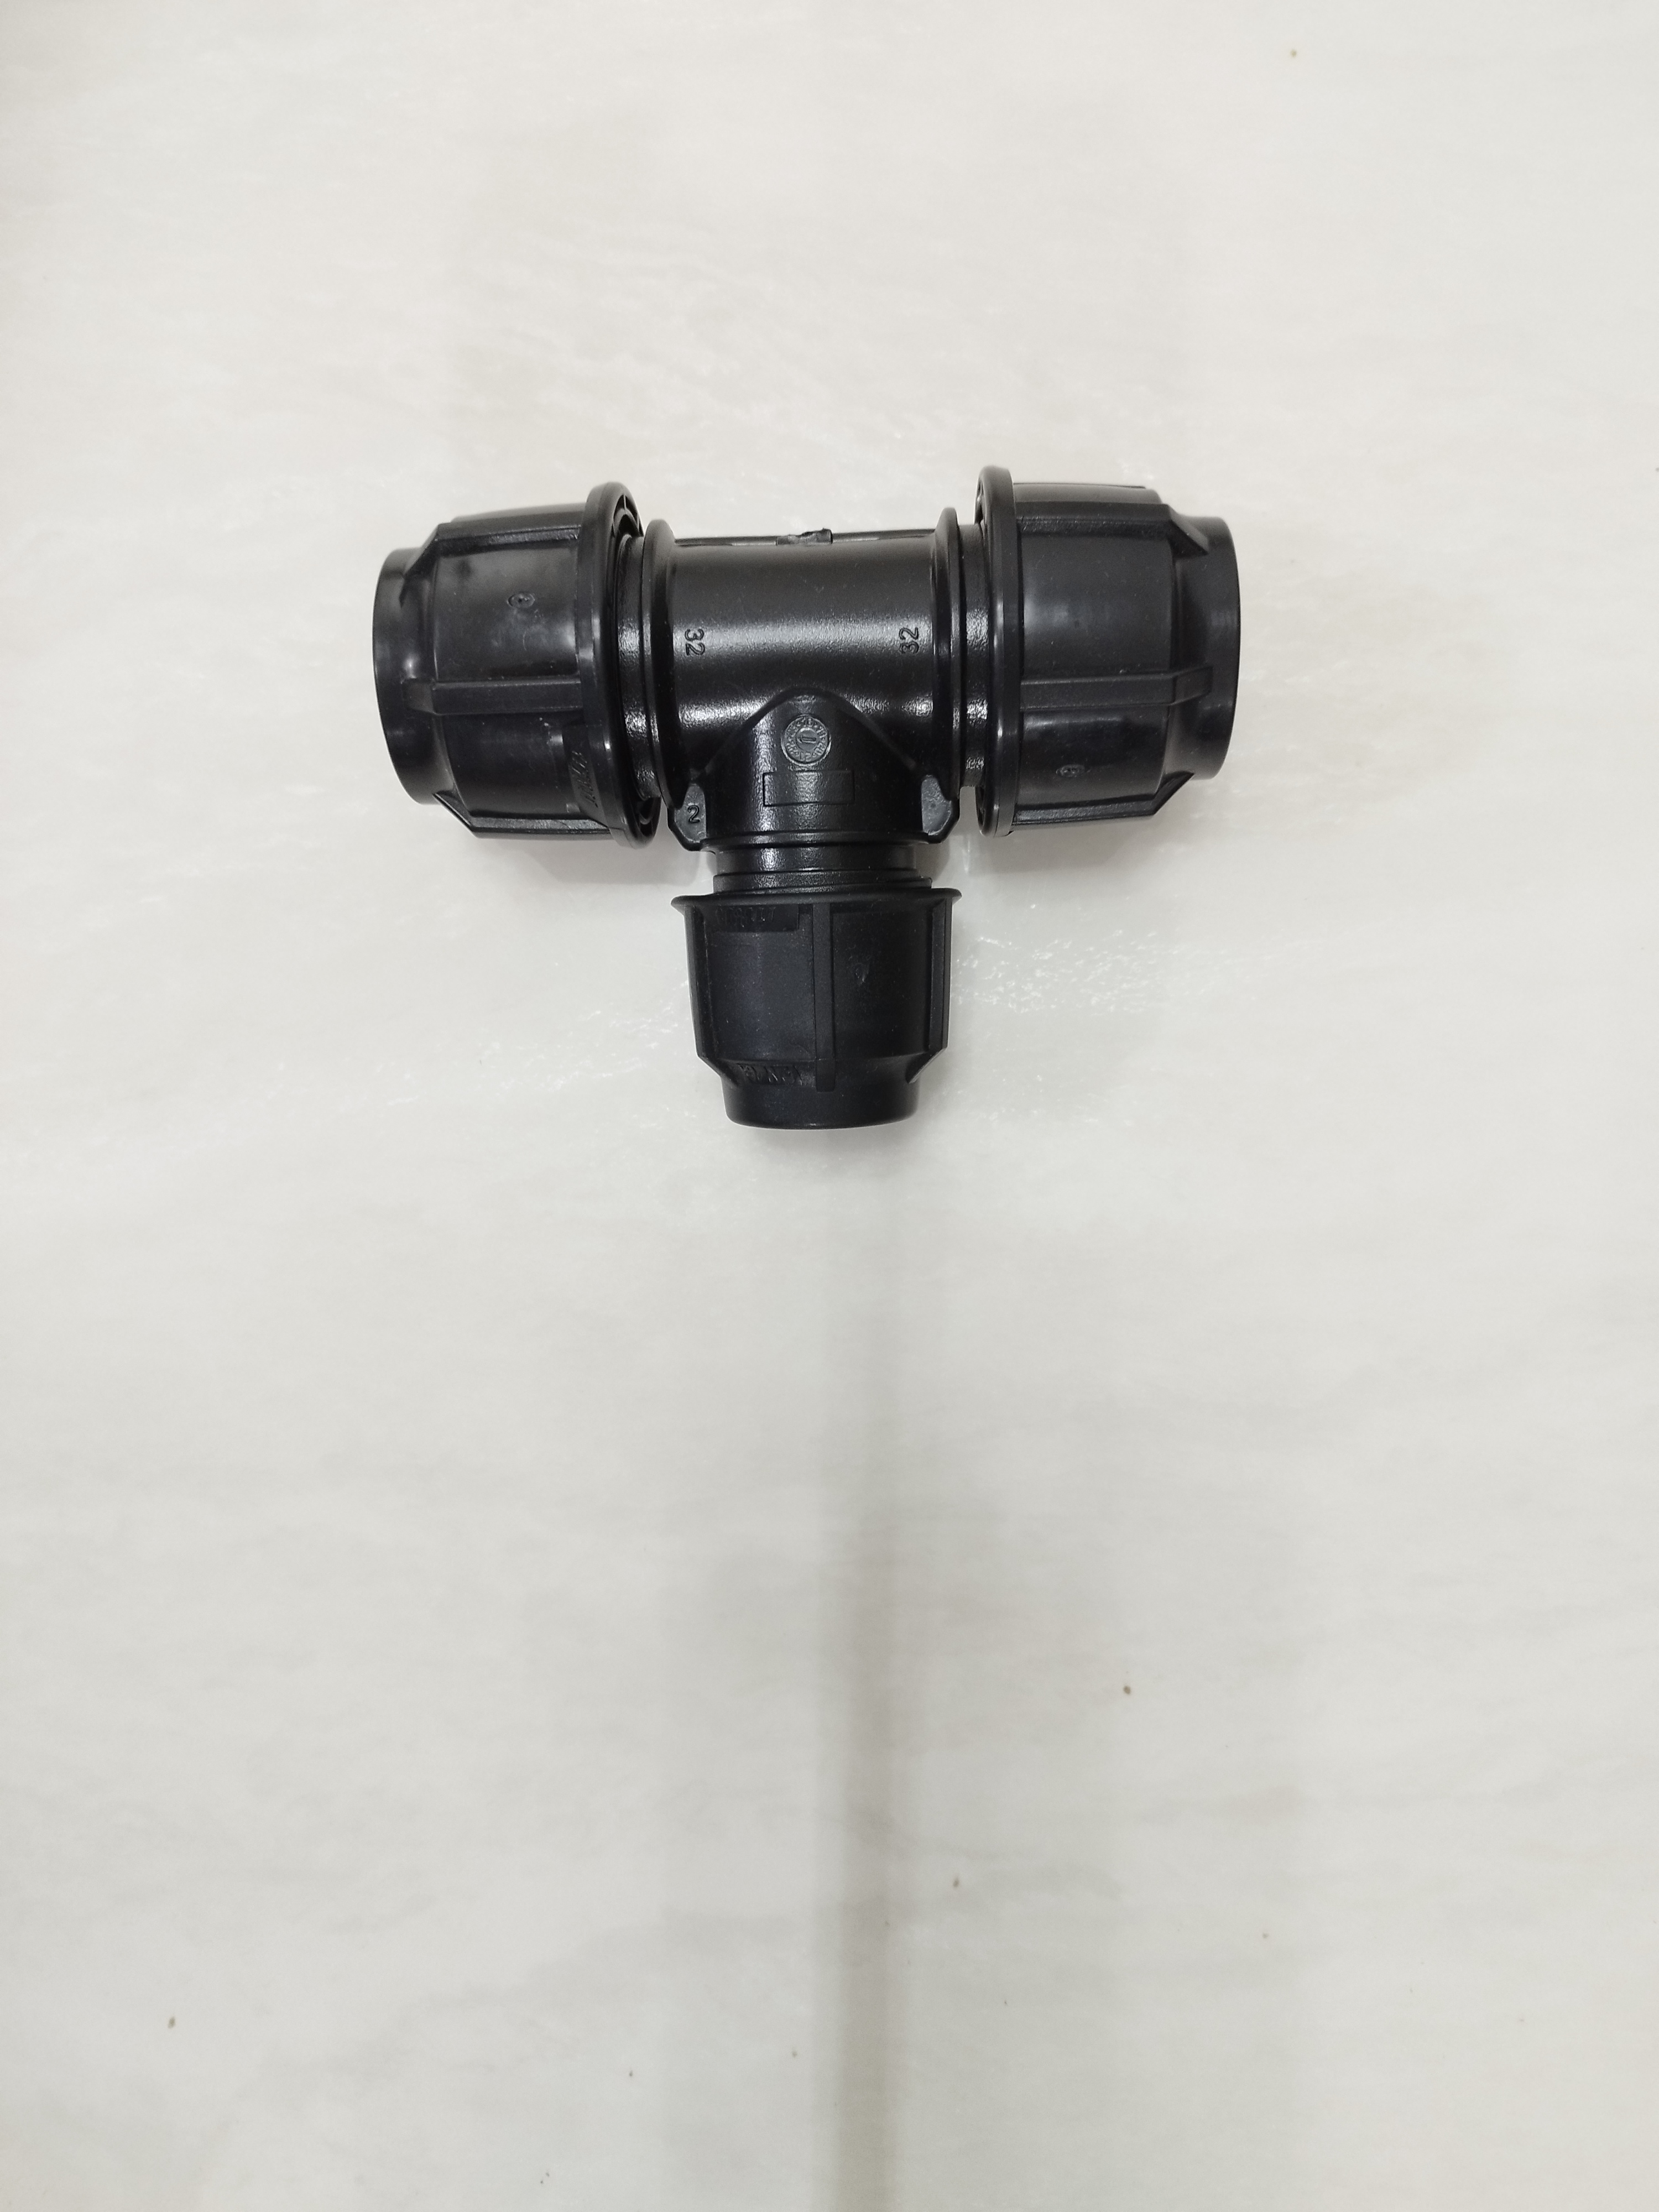plastic_tee_connector: (342, 465, 1295, 1167)
